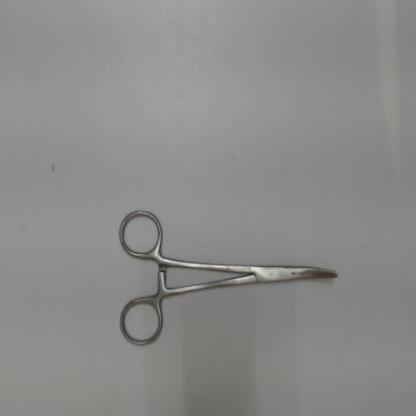Crile Artery Forceps: (115, 200, 350, 348)
